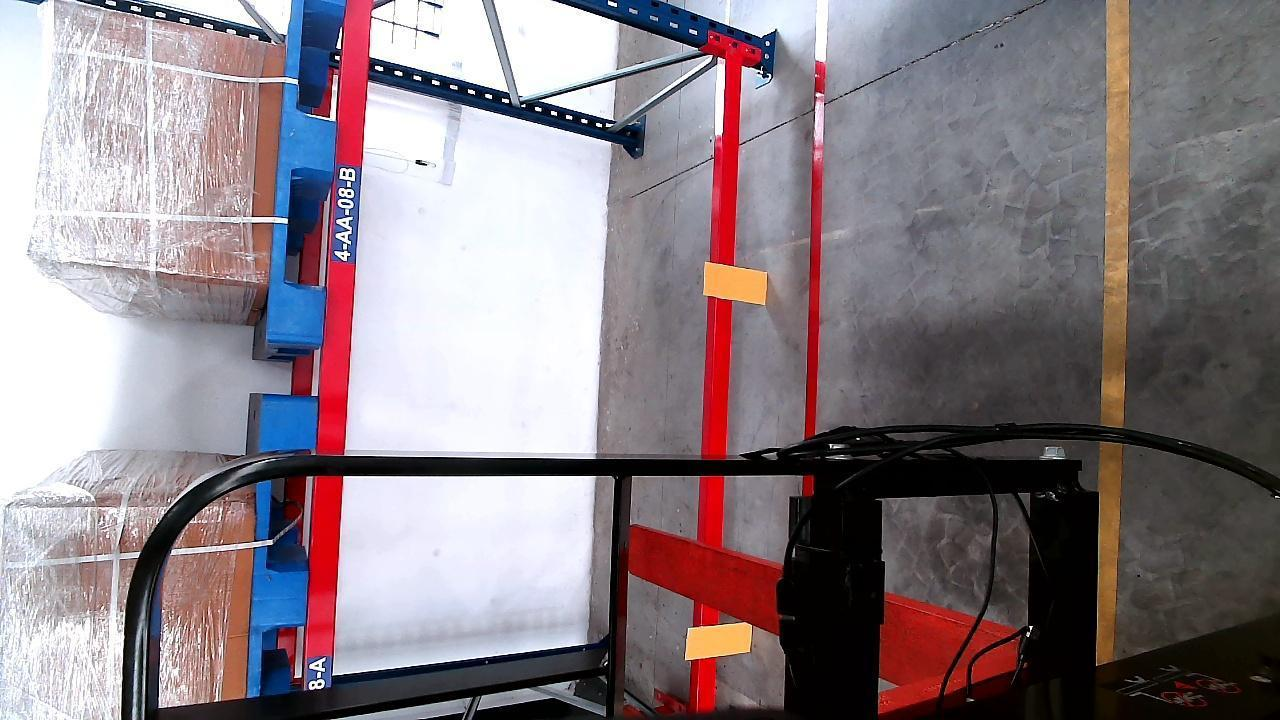h_rack: (305, 0, 369, 689), (691, 55, 747, 719)
orange_strip: (687, 619, 756, 660), (706, 263, 767, 304)
red_line: (805, 16, 829, 433)
small_pallet: (273, 1, 350, 348), (249, 406, 317, 690)
yellow_line: (1095, 0, 1135, 663)
